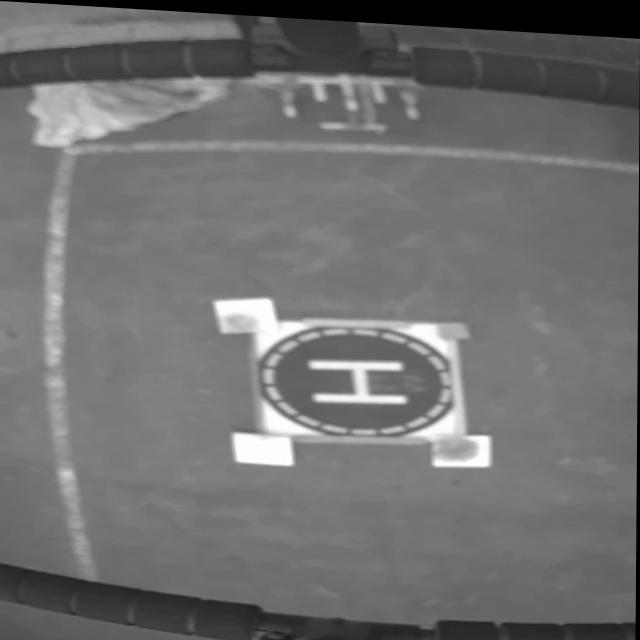Helipad: (312, 354, 410, 399)
